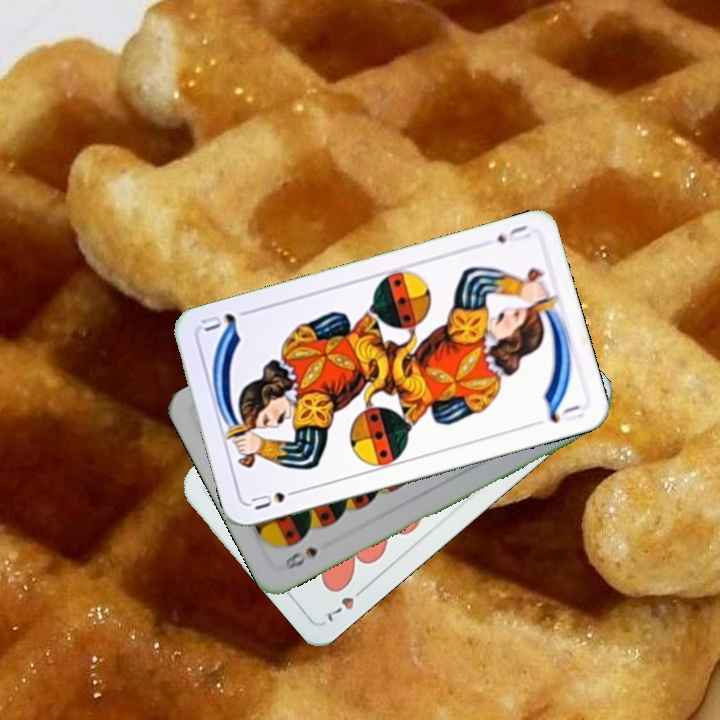H7: (321, 581, 370, 624)
S8: (281, 543, 321, 573)
SU: (246, 484, 305, 513), (492, 220, 533, 246)
